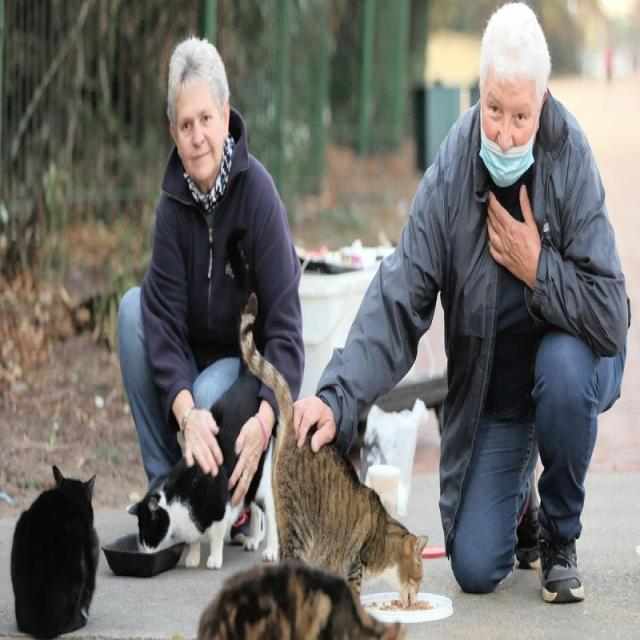cat: (240, 300, 428, 607), (130, 371, 260, 568), (198, 560, 404, 640), (11, 464, 99, 638), (245, 444, 278, 559)
